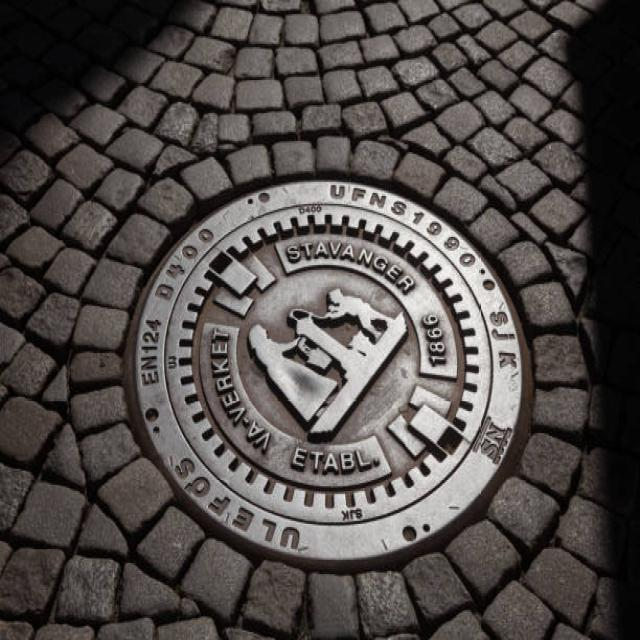Good: (123, 166, 542, 582)
